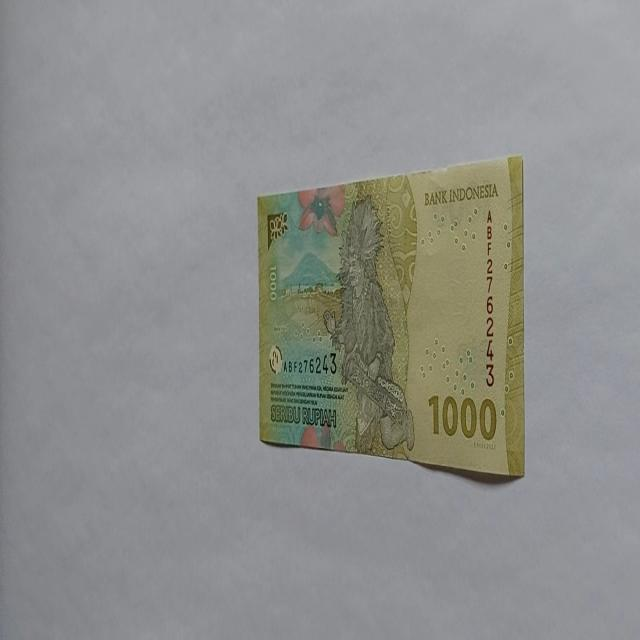seribu rupiah kertas: (256, 153, 526, 479)
